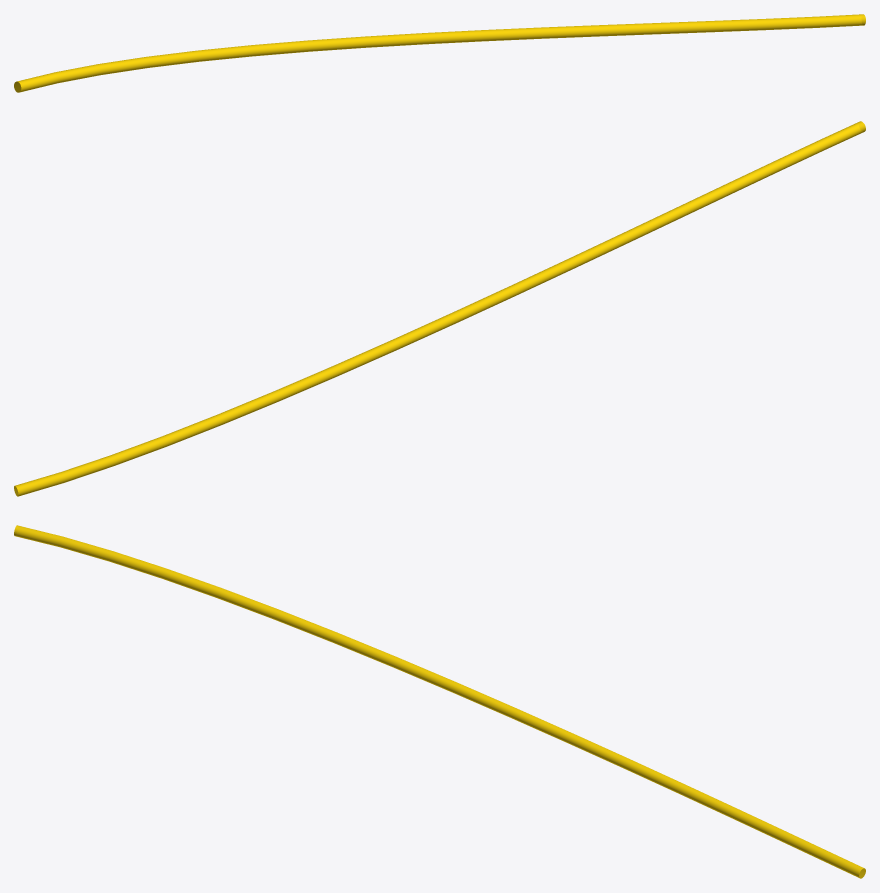
Rendered from Event_421115418_track_157.fbx.
3 renders of one model, top to bottom at view 1: azimuth 30°, elevation 25°; view 2: azimuth 210°, elevation 25°; view 3: azimuth 330°, elevation 25°, orthographic. The views are drawn at different scales.
Parts seen in each view (by area): view 1: Model; view 2: Model; view 3: Model.
Part boxes in pixels (left/top/right/bottom): Model: left=14, top=14, right=865, bottom=92; Model: left=14, top=121, right=865, bottom=496; Model: left=14, top=525, right=865, bottom=878.
Bounding box in the file's own units: 3.48 × 0.6156 × 0.1895.
